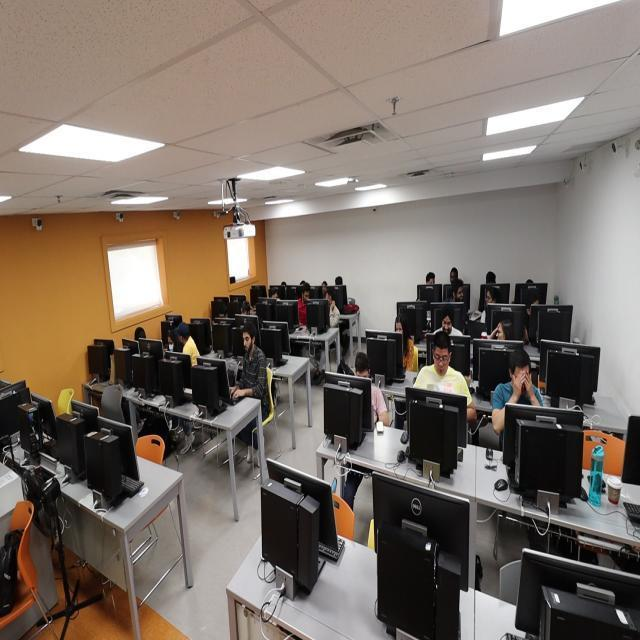Looking away: (513, 366, 530, 395), (434, 344, 449, 374), (242, 332, 252, 352), (356, 368, 370, 382), (442, 316, 452, 334), (496, 324, 505, 342), (456, 287, 464, 301), (395, 322, 403, 336), (168, 336, 174, 351), (486, 291, 492, 304), (178, 332, 184, 344), (303, 291, 309, 302), (326, 292, 332, 302)
